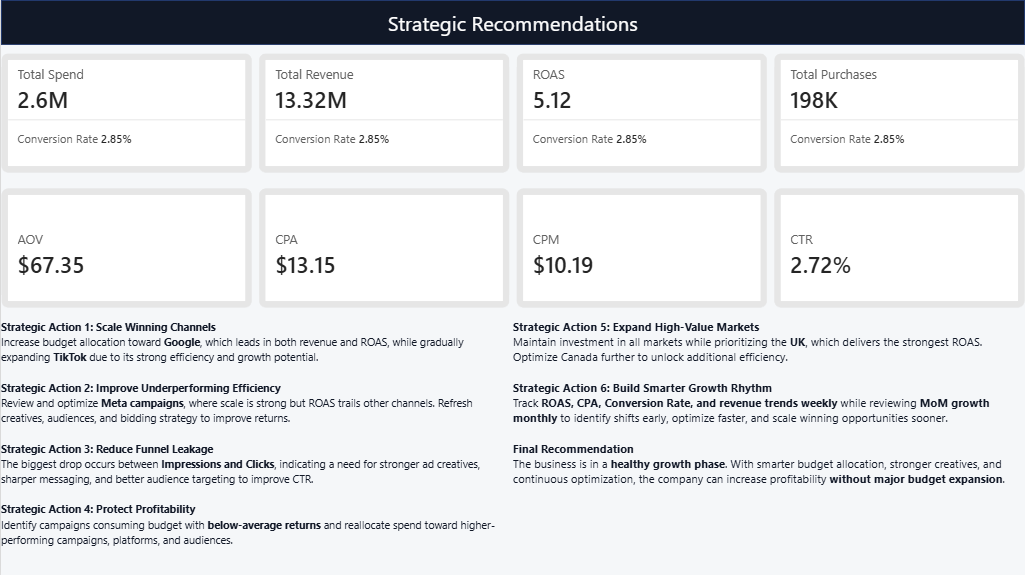

Layout of this report page (visuals, bound fields, positions):
{"tool":"powerbi","page":{"name":"Strategic Recommendations","canvas":[1280,720],"ordinal":6},"visuals":[{"type":"textbox","box":[0,398.8,640,296.2],"z":0},{"type":"cardVisual","fields":{"Data":["Formulas.Total Spend","Formulas.Total Revenue","Formulas.ROAS","Formulas.Total Purchases"]},"box":[0,66.2,1280,150],"z":1000},{"type":"cardVisual","fields":{"Data":["Formulas.AOV","Formulas.CPA","Formulas.CPM","Formulas.CTR"]},"box":[0,235,1280,150],"z":2000},{"type":"shape","box":[0,0,1280,56.2],"z":3000},{"type":"textbox","box":[640,398.8,640,296.2],"z":3001}]}

Visuals, with their boxes in screenshot pixels (x1, y1, x2, y2), scaled from the page's 1280x720 canvas onto the 1025x575 screenshot:
textbox: detection(0, 318, 512, 555)
cardVisual - Formulas.Total Spend x Formulas.Total Revenue: detection(0, 53, 1024, 173)
cardVisual - Formulas.AOV x Formulas.CPA: detection(0, 188, 1024, 307)
shape: detection(0, 0, 1024, 45)
textbox: detection(512, 318, 1024, 555)
